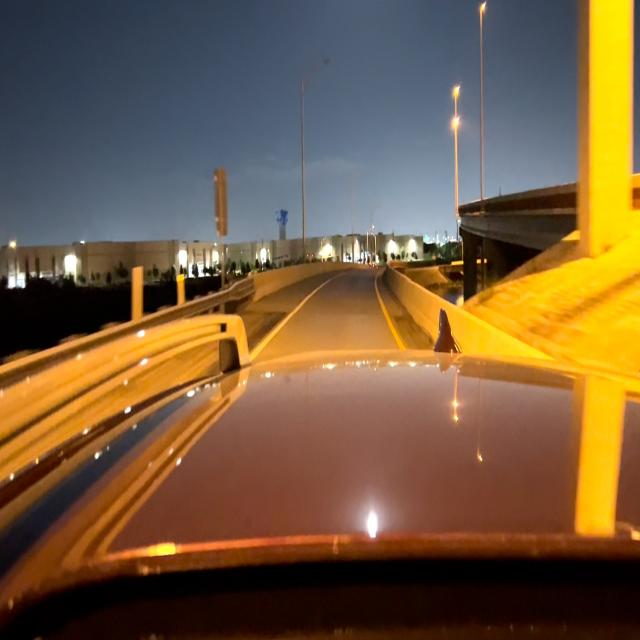back-of-sign: (215, 169, 229, 243)
